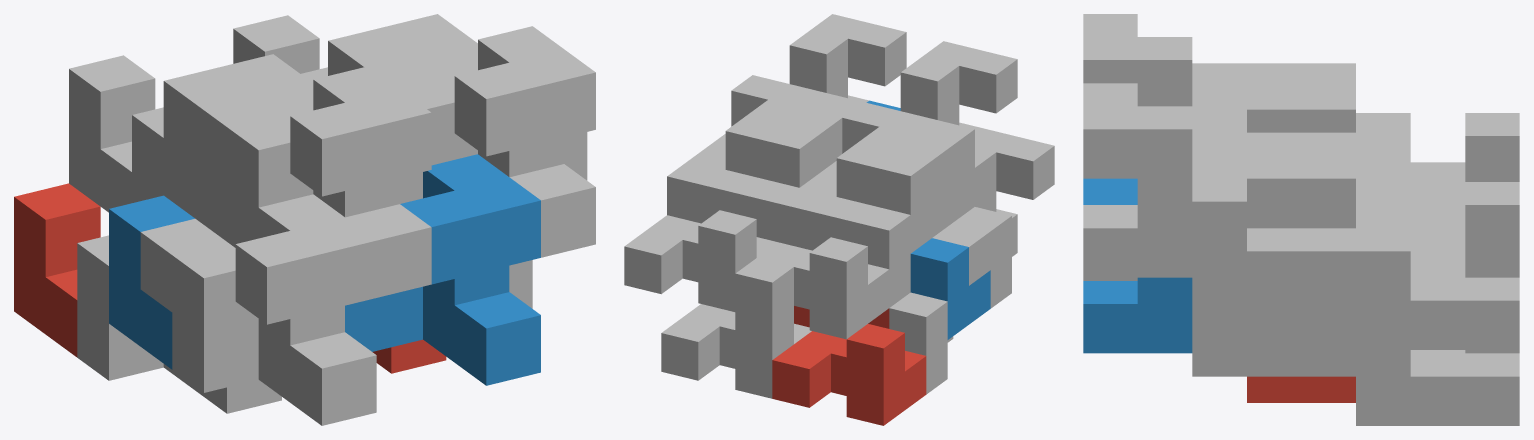
Rendered from tiling.obj.
The picture shows the model from 3 angles, left to right: view 1: azimuth 30°, elevation 25°; view 2: azimuth 150°, elevation 25°; view 3: azimuth 270°, elevation 25°; orthographic projection. The views are drawn at different scales.
Visible parts, largest first — view 1: copy_2_domain_2, copy_2_domain_4, copy_2_domain_6, copy_2_domain_8, copy_2_domain_1, copy_1_domain_1, copy_1_domain_3, copy_2_domain_3, copy_1_domain_2, copy_1_domain_4, copy_2_domain_7, copy_1_domain_7 (+3 smaller); view 2: copy_1_domain_3, copy_1_domain_7, copy_1_domain_1, copy_2_domain_4, copy_1_domain_5, copy_2_domain_3, copy_2_domain_8, copy_2_domain_2, copy_1_domain_4, copy_2_domain_7, copy_1_domain_8, copy_2_domain_1 (+1 smaller); view 3: copy_1_domain_7, copy_2_domain_8, copy_1_domain_8, copy_2_domain_7, copy_1_domain_5, copy_1_domain_3, copy_2_domain_6, copy_1_domain_6, copy_2_domain_4, copy_2_domain_3, copy_1_domain_4, copy_2_domain_5.
Boxes of the visible parts, x1,y1,x2,y2 form: copy_2_domain_2: (172, 194, 376, 425); copy_2_domain_4: (227, 66, 431, 297); copy_2_domain_6: (368, 154, 540, 385); copy_2_domain_8: (395, 26, 595, 257); copy_2_domain_1: (77, 218, 281, 413); copy_1_domain_1: (14, 183, 100, 357); copy_1_domain_3: (69, 55, 155, 212); copy_2_domain_3: (132, 54, 313, 202); copy_1_domain_2: (109, 195, 368, 369); copy_1_domain_4: (163, 67, 422, 241); copy_2_domain_7: (301, 14, 477, 85); copy_1_domain_7: (233, 15, 319, 73); copy_1_domain_3: (735, 188, 889, 339); copy_1_domain_7: (624, 160, 777, 311); copy_1_domain_1: (772, 308, 926, 425); copy_2_domain_4: (900, 41, 1017, 221); copy_1_domain_5: (661, 304, 811, 398); copy_2_domain_3: (836, 127, 953, 307); copy_2_domain_8: (789, 14, 906, 117); copy_2_domain_2: (953, 127, 1054, 308); copy_1_domain_4: (800, 102, 953, 253); copy_2_domain_7: (725, 99, 842, 241); copy_1_domain_8: (689, 75, 826, 187); copy_2_domain_1: (889, 222, 990, 394); copy_1_domain_7: (1356, 182, 1519, 349); copy_2_domain_8: (1083, 83, 1246, 277); copy_1_domain_8: (1192, 132, 1355, 300); copy_2_domain_7: (1247, 132, 1410, 326); copy_1_domain_5: (1356, 350, 1519, 425); copy_1_domain_3: (1356, 113, 1519, 231); copy_2_domain_6: (1083, 178, 1192, 353); copy_1_domain_6: (1192, 300, 1355, 376); copy_2_domain_4: (1083, 14, 1246, 106); copy_2_domain_3: (1247, 63, 1410, 135); copy_1_domain_4: (1192, 63, 1355, 132); copy_2_domain_5: (1247, 376, 1355, 402).
Bounding box in the file's own units: 7 × 6 × 8.
